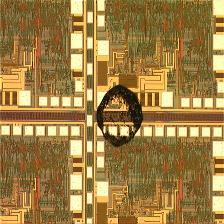PARTICLE: (95, 84, 146, 150)
